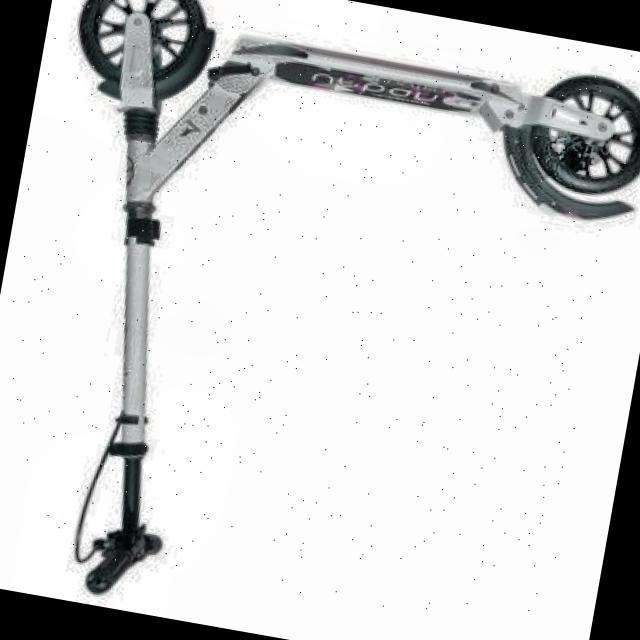bike: (78, 0, 640, 221)
